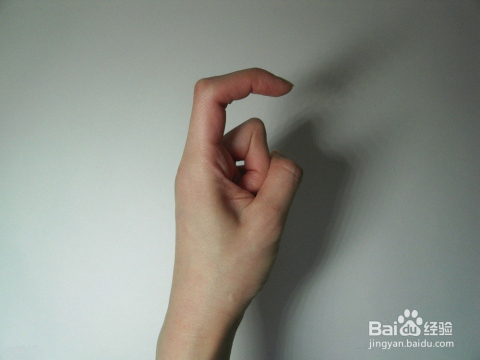anticlockwise: (168, 64, 311, 292)
